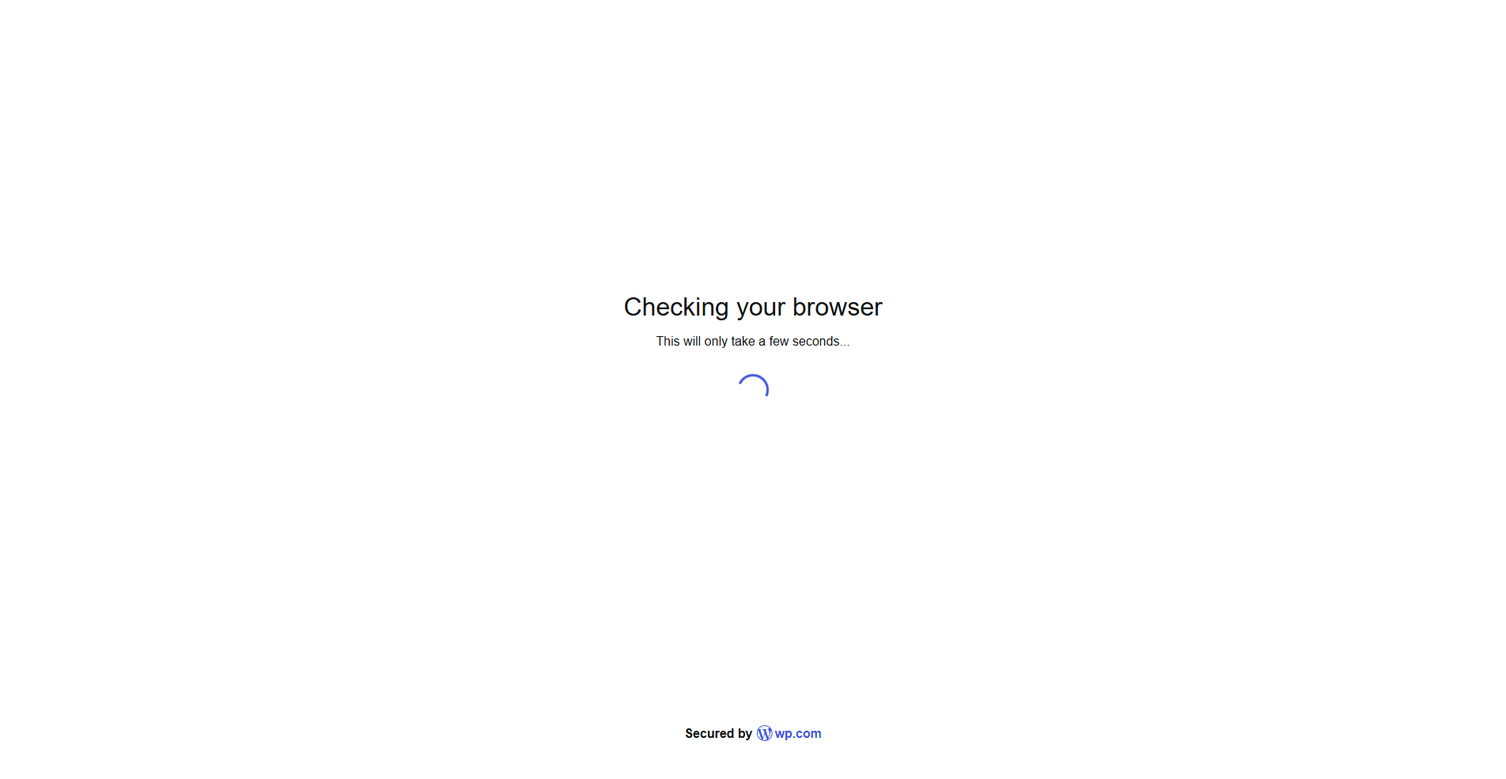link: (756, 727, 822, 740)
